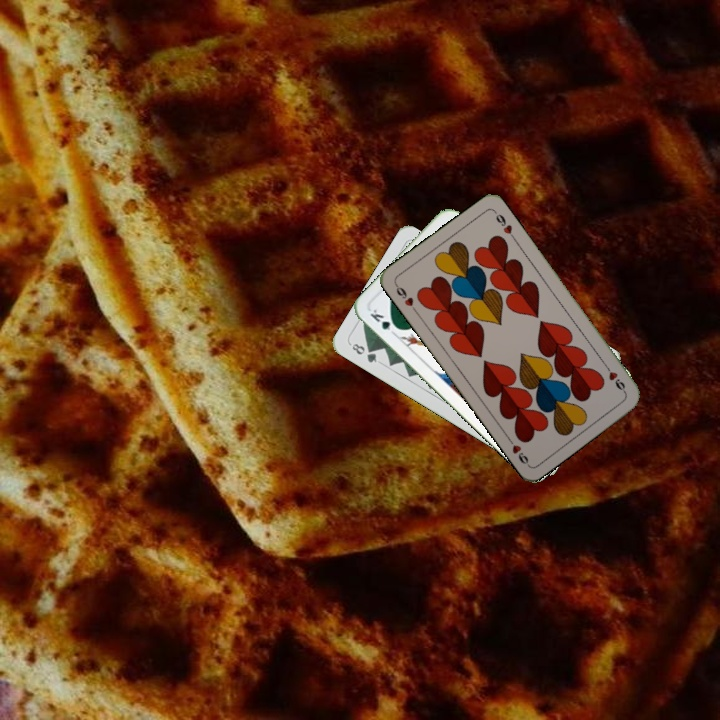G8: (348, 339, 379, 365)
GK: (366, 304, 402, 338)
H9: (600, 360, 628, 396), (391, 280, 419, 315)
